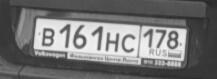license-plateSW: (34, 16, 189, 63)
